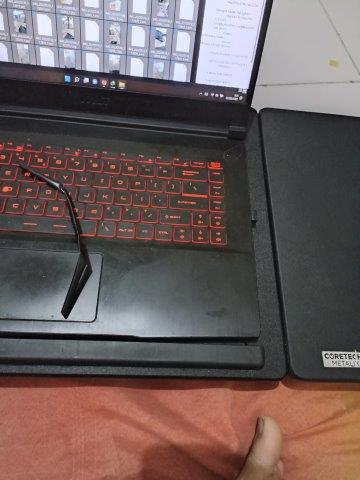sedotan: (21, 165, 86, 317)
